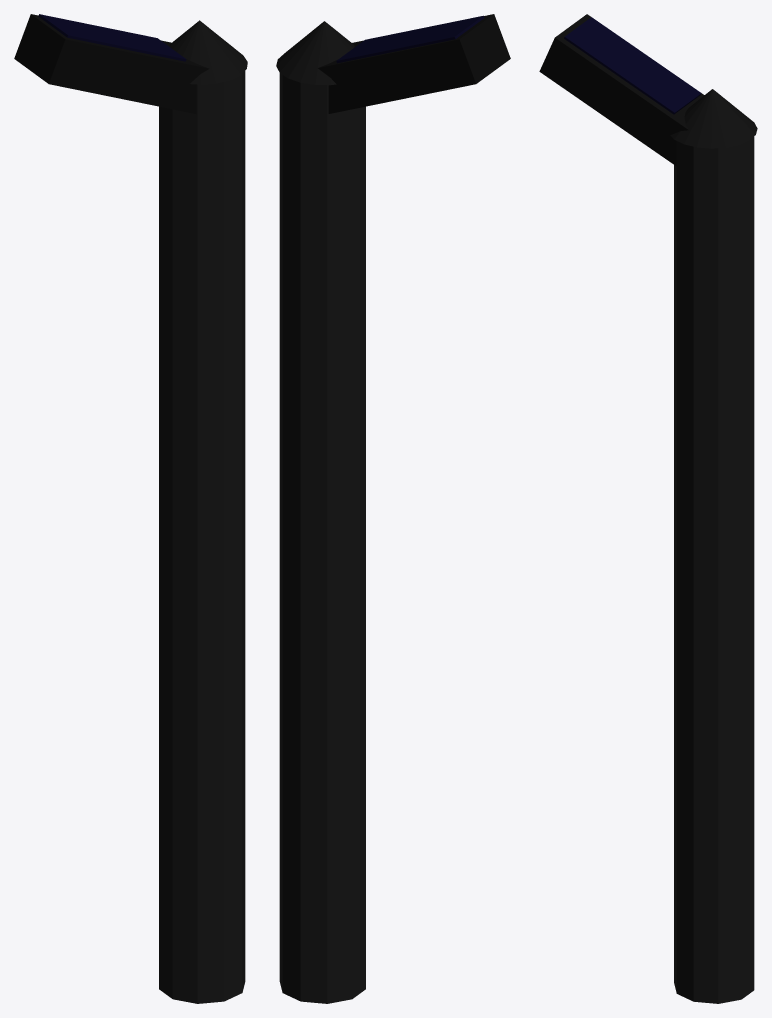
The model's file is streetlamp.obj.
3 views of the same model, side by side, from view 1: azimuth 30°, elevation 25°; view 2: azimuth 150°, elevation 25°; view 3: azimuth 330°, elevation 25° (orthographic). The views are drawn at different scales.
Visible parts, largest first — view 1: Cylinder, Cube, Cone, Cube.002; view 2: Cylinder, Cube, Cone, Cube.002; view 3: Cylinder, Cube, Cube.002, Cone.
Boxes of the visible parts, box(x1,y1,x2,y2) form: Cylinder: box(159, 71, 245, 1003); Cube: box(14, 14, 209, 113); Cone: box(169, 20, 247, 84); Cube.002: box(38, 14, 186, 61); Cylinder: box(279, 73, 365, 1003); Cube: box(318, 14, 510, 113); Cone: box(276, 21, 354, 85); Cube.002: box(336, 15, 484, 63); Cylinder: box(674, 136, 754, 1003); Cube: box(539, 14, 704, 166); Cube.002: box(564, 17, 701, 114); Cone: box(670, 89, 757, 148).
Size of the model in its own units: 1.1 by 4.99 by 0.437.
